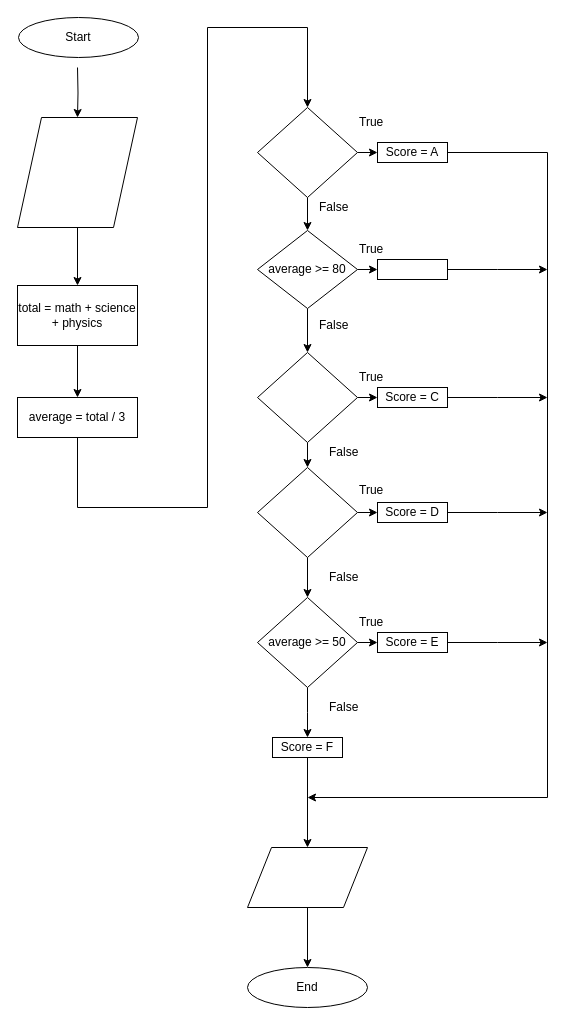
This 573x1025 diagram has some shape labels left out. Each missing label, with the centre of its shape:
average >= 60: point 307,512
average >= 70: point 307,397
average >= 90: point 307,152
math = 90 science = 75 physics = 60 Total = 0 Average = 0: point 77,172
print average, score: point 307,877
Score = B: point 412,269
